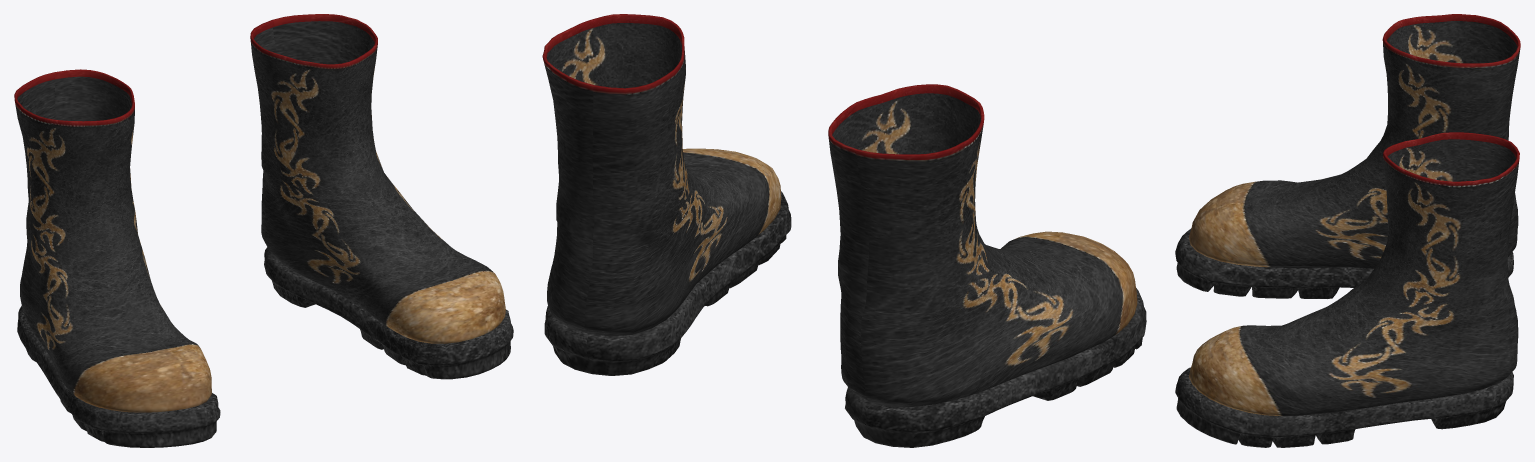
File: Boots.glb
The picture shows the model from 3 angles, left to right: view 1: azimuth 30°, elevation 25°; view 2: azimuth 150°, elevation 25°; view 3: azimuth 270°, elevation 25°; orthographic projection. The views are drawn at different scales.
Visible parts, largest first — view 1: Boots for Genesis; view 2: Boots for Genesis; view 3: Boots for Genesis.
Part boxes in pixels (x1,y1,x2,y2): Boots for Genesis: (14, 14, 513, 447); Boots for Genesis: (542, 14, 1146, 447); Boots for Genesis: (1175, 14, 1520, 447).
Size of the model in its own units: 7.6 by 4.43 by 5.39.
Materials: 2 (2 with a texture image).
